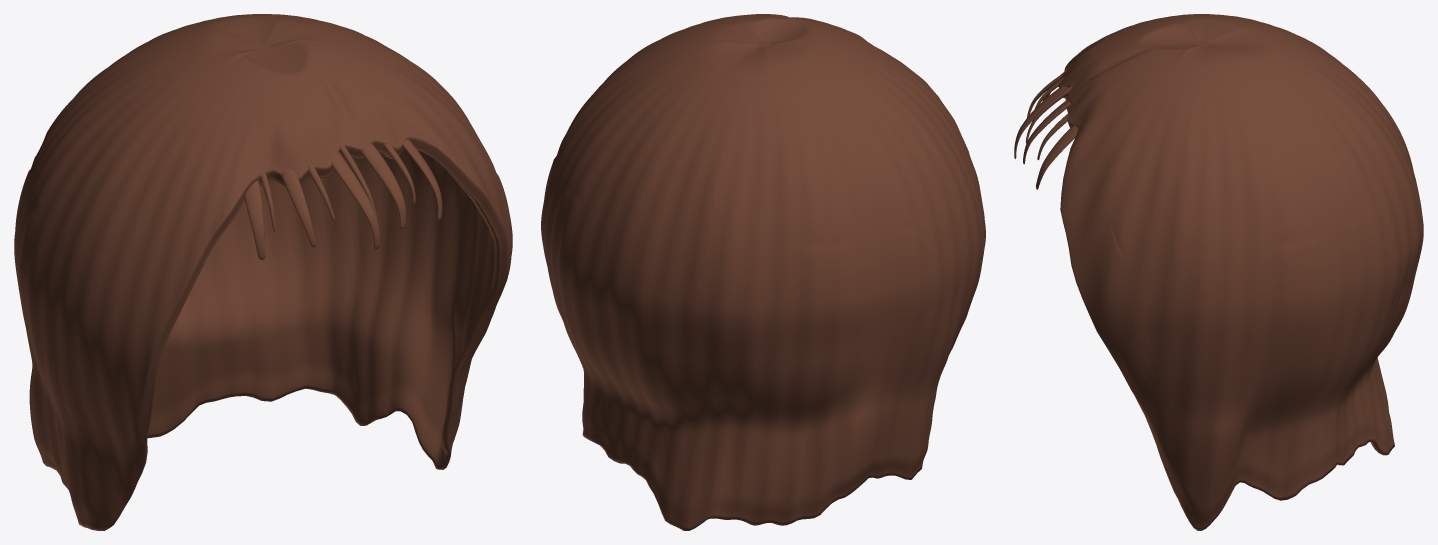
Rendered from side-sweep-cowboy.glb.
3 views of the same model, side by side, from view 1: azimuth 30°, elevation 25°; view 2: azimuth 150°, elevation 25°; view 3: azimuth 270°, elevation 25° (orthographic). The views are drawn at different scales.
Parts seen in each view (by area): view 1: Hair / layered lob, Fringe / arched wisp 05, Fringe / arched wisp 07, Fringe / arched wisp 01, Fringe / arched wisp 03, Fringe / arched wisp 09; view 2: Hair / layered lob; view 3: Hair / layered lob, Fringe / arched wisp 09.
Part boxes in pixels (x1=…): Hair / layered lob: x1=14, y1=14, x2=512, y2=530; Fringe / arched wisp 05: x1=331, y1=152, x2=379, y2=249; Fringe / arched wisp 07: x1=361, y1=143, x2=405, y2=229; Fringe / arched wisp 01: x1=244, y1=180, x2=265, y2=259; Fringe / arched wisp 03: x1=281, y1=169, x2=316, y2=247; Fringe / arched wisp 09: x1=402, y1=139, x2=442, y2=220; Hair / layered lob: x1=541, y1=14, x2=985, y2=530; Hair / layered lob: x1=1058, y1=14, x2=1423, y2=530; Fringe / arched wisp 09: x1=1036, y1=125, x2=1078, y2=189.
Size of the model in its own units: 0.8388 by 0.8737 by 0.7759.
